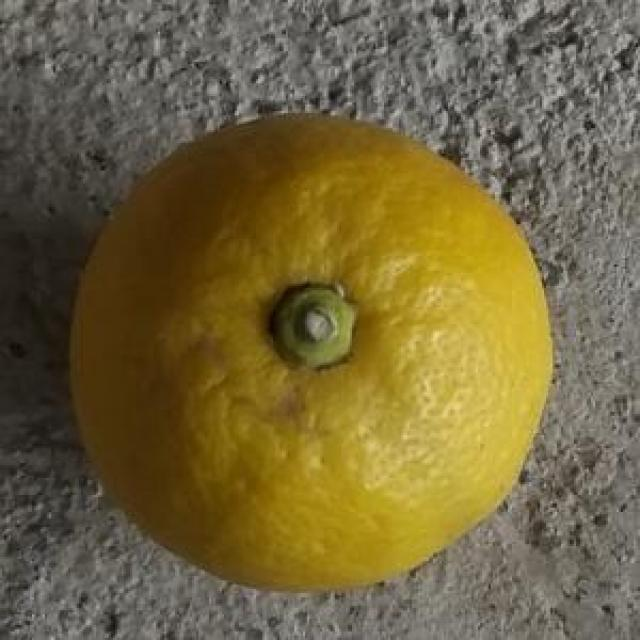lemon: (63, 108, 555, 592)
